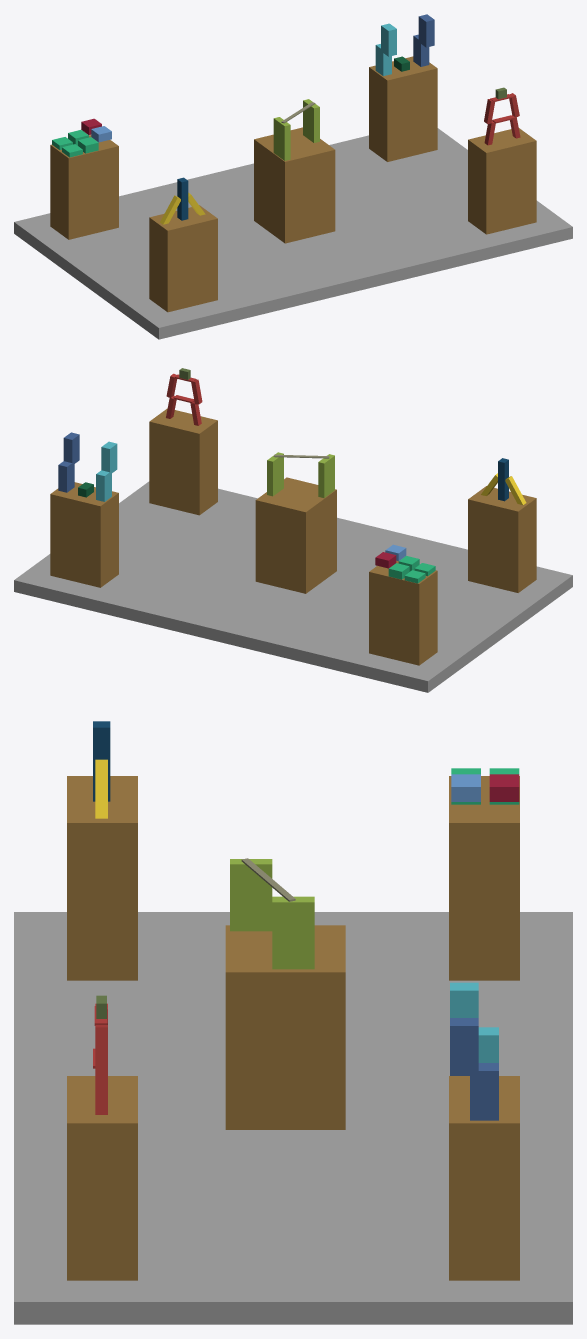
File: expositor 5.fbx
3 views of the same model, one above another, from view 1: azimuth 30°, elevation 25°; view 2: azimuth 150°, elevation 25°; view 3: azimuth 270°, elevation 25° (orthographic). The views are drawn at different scales.
Parts seen in each view (by area): view 1: Exposito 5; view 2: Exposito 5; view 3: Exposito 5.
Part boxes in pixels (box(x1,y1,x2,y2)): Exposito 5: box(14, 14, 572, 339); Exposito 5: box(14, 368, 572, 692); Exposito 5: box(14, 721, 572, 1324).
Bounding box in the file's own units: 950 × 317 × 576.
